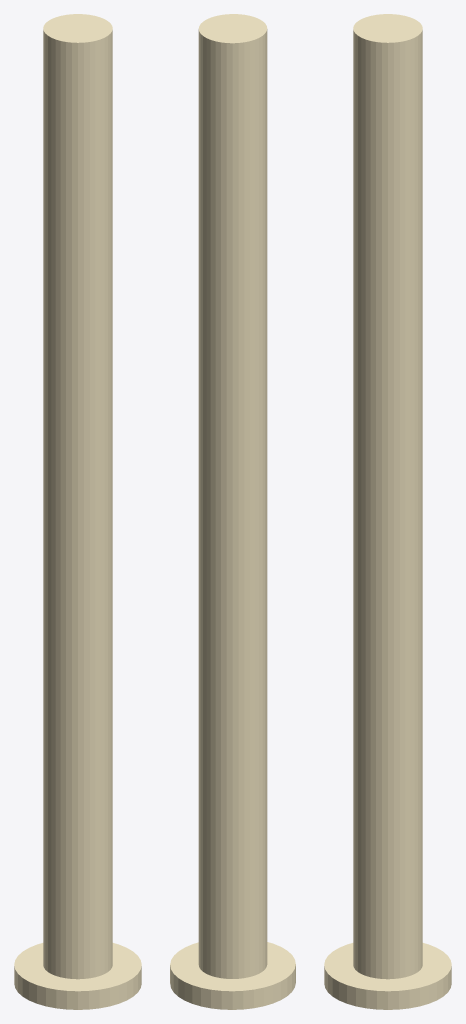
The model's file is onlyrod.dae.
3 renders of one model, left to right at view 1: azimuth 90°, elevation 25°; view 2: azimuth 150°, elevation 25°; view 3: azimuth 270°, elevation 25°, orthographic.
Parts seen in each view (by area): view 1: onlyrod; view 2: onlyrod; view 3: onlyrod.
Boxes of the visible parts, bbox=[...] form: onlyrod: bbox=[14, 14, 141, 1009]; onlyrod: bbox=[170, 14, 295, 1009]; onlyrod: bbox=[324, 14, 451, 1009].
Size of the model in its own units: 0.0608 by 0.0619 by 0.5113.
